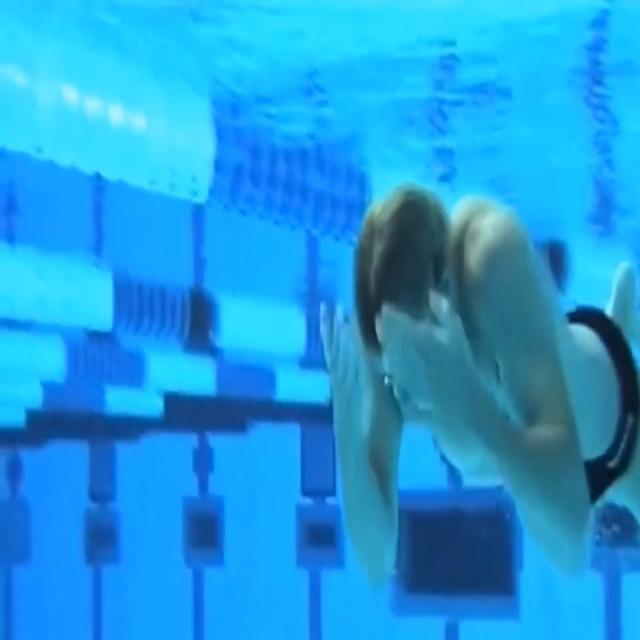Swimming: (321, 182, 640, 598)
